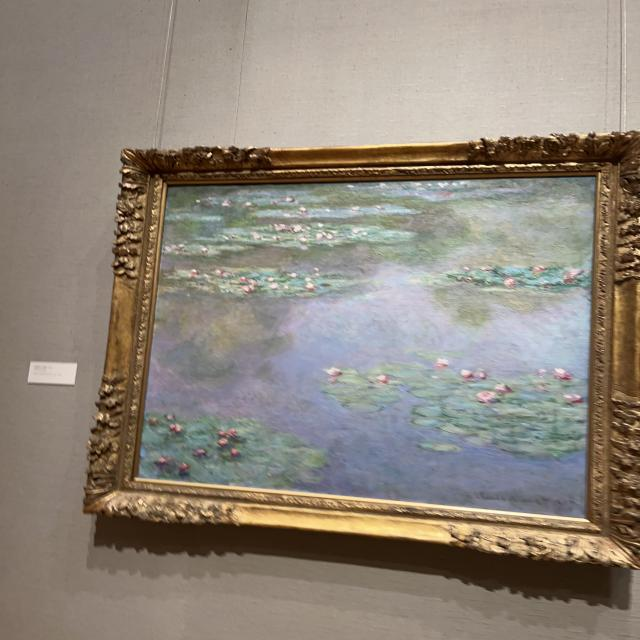lilies: (143, 181, 590, 515)
